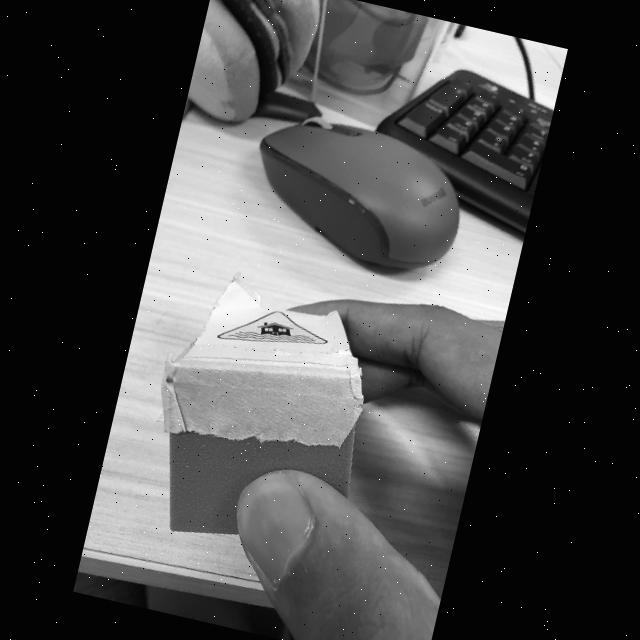Tsunami: (217, 311, 327, 345)
